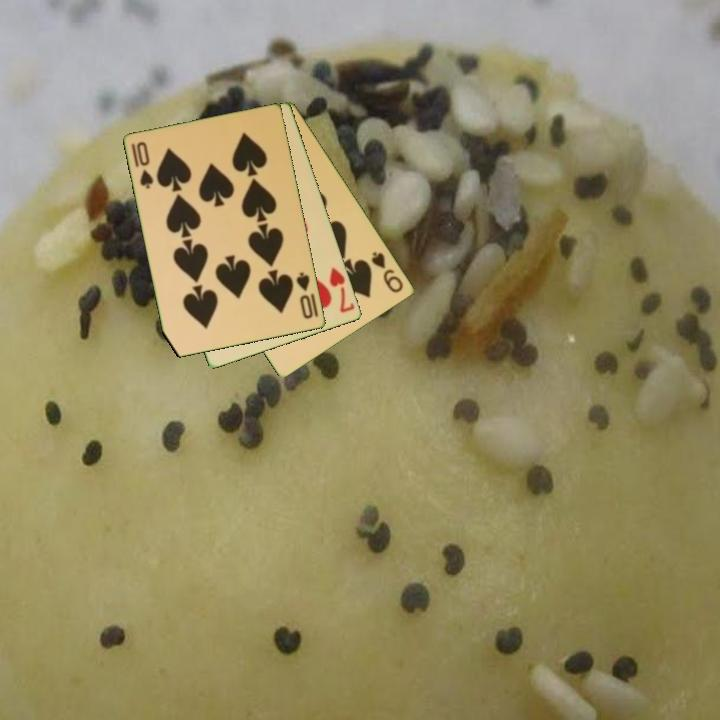10s: (128, 138, 157, 192), (293, 269, 316, 322)
7h: (326, 264, 358, 316)
9s: (368, 248, 406, 296)
